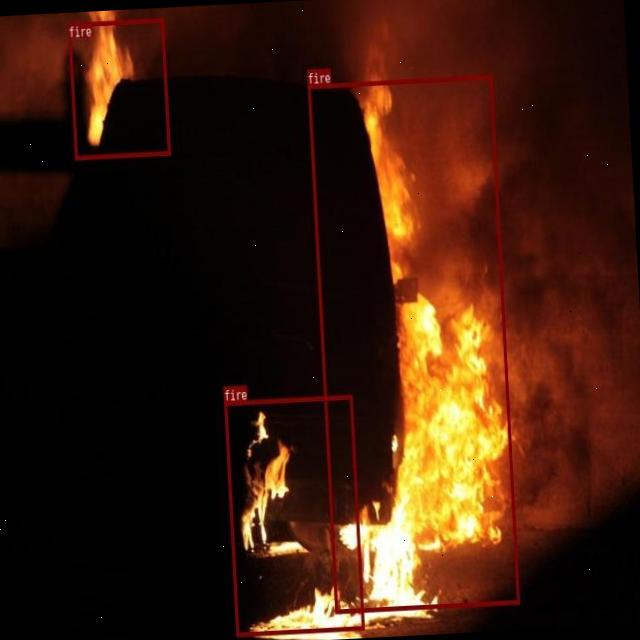fire: (308, 76, 519, 614), (223, 394, 364, 636), (67, 18, 170, 158)
